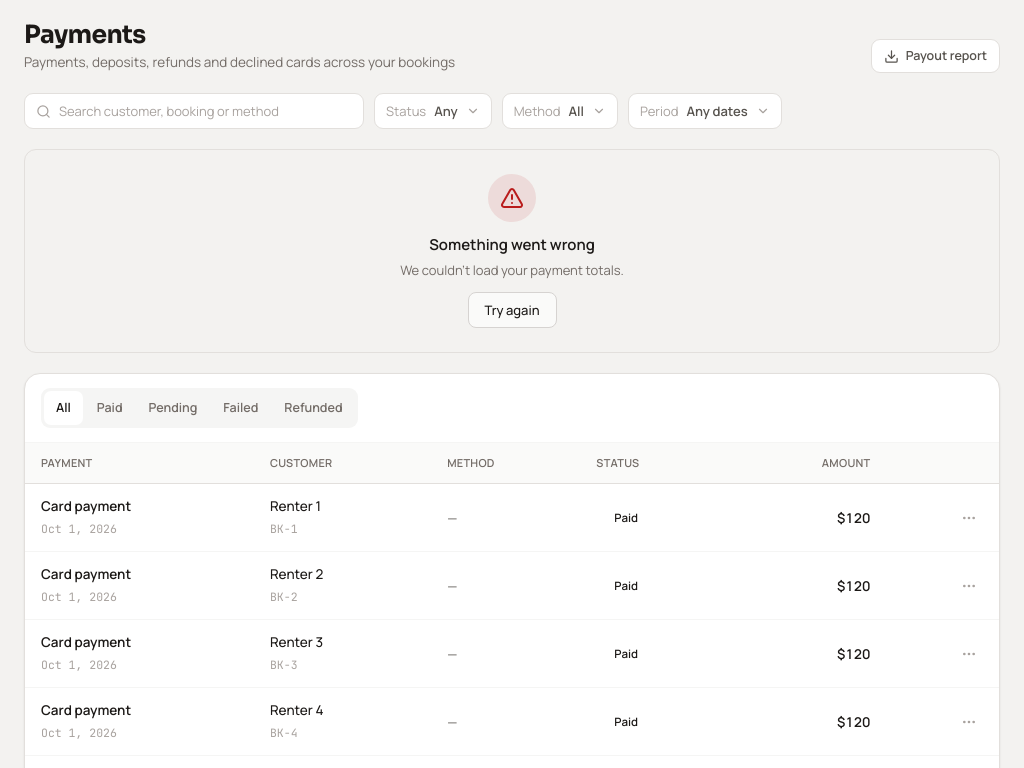
Test: the payment totals › offer a retry instead of zero balances when they fail
Expected: the text "Renter 1" is shown, [270,497,321,515]
Expected: the text "We couldn't load your payment totals." is shown, [400,260,624,280]
Click the button "Try again" at (512, 310), box [468,292,556,328]
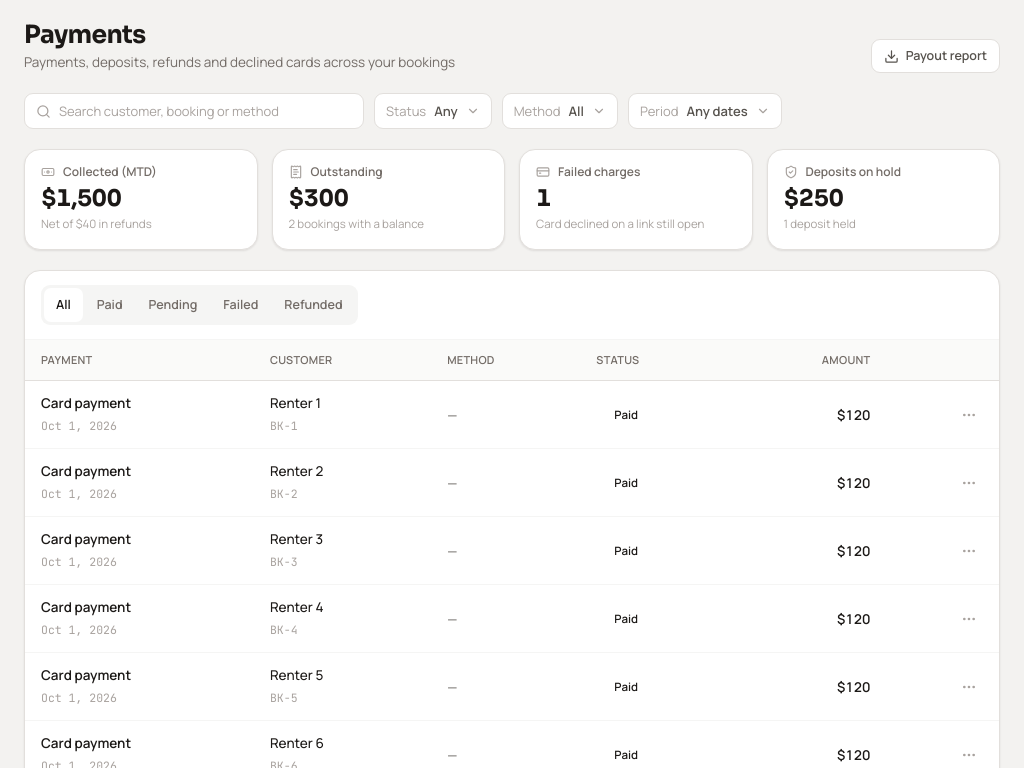
Expected: the text "$1,500" is shown, [41,184,122,213]
